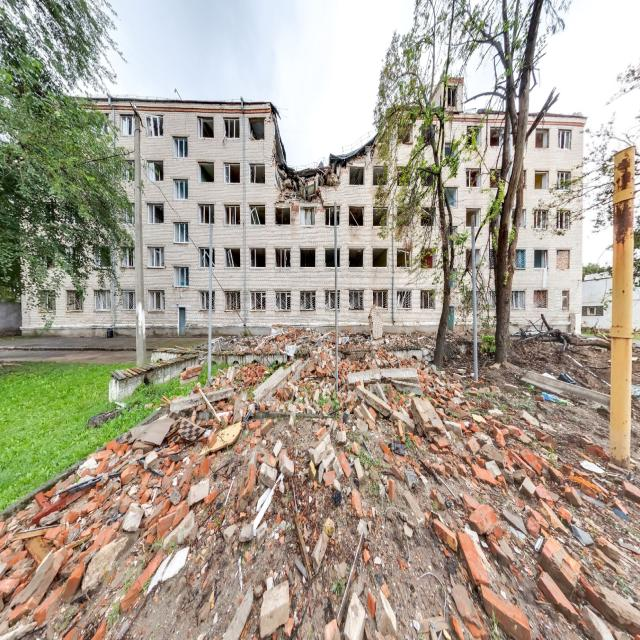building: (18, 78, 588, 341)
damaged_roof: (1, 328, 639, 638)
